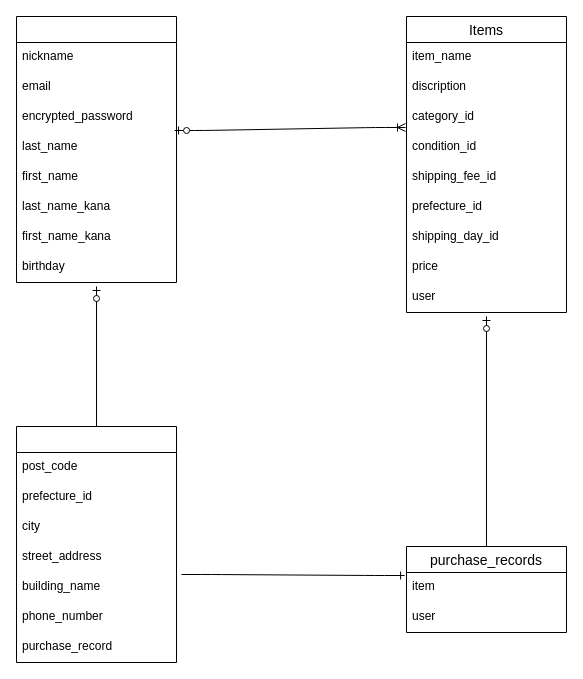
This 583x679 diagram has some shape labels left out. The box of each missing label's shape, as (x1, y1, x2, y2) in pixels:
shipping_addresses: (16, 426, 176, 662)
Users: (16, 16, 176, 282)
